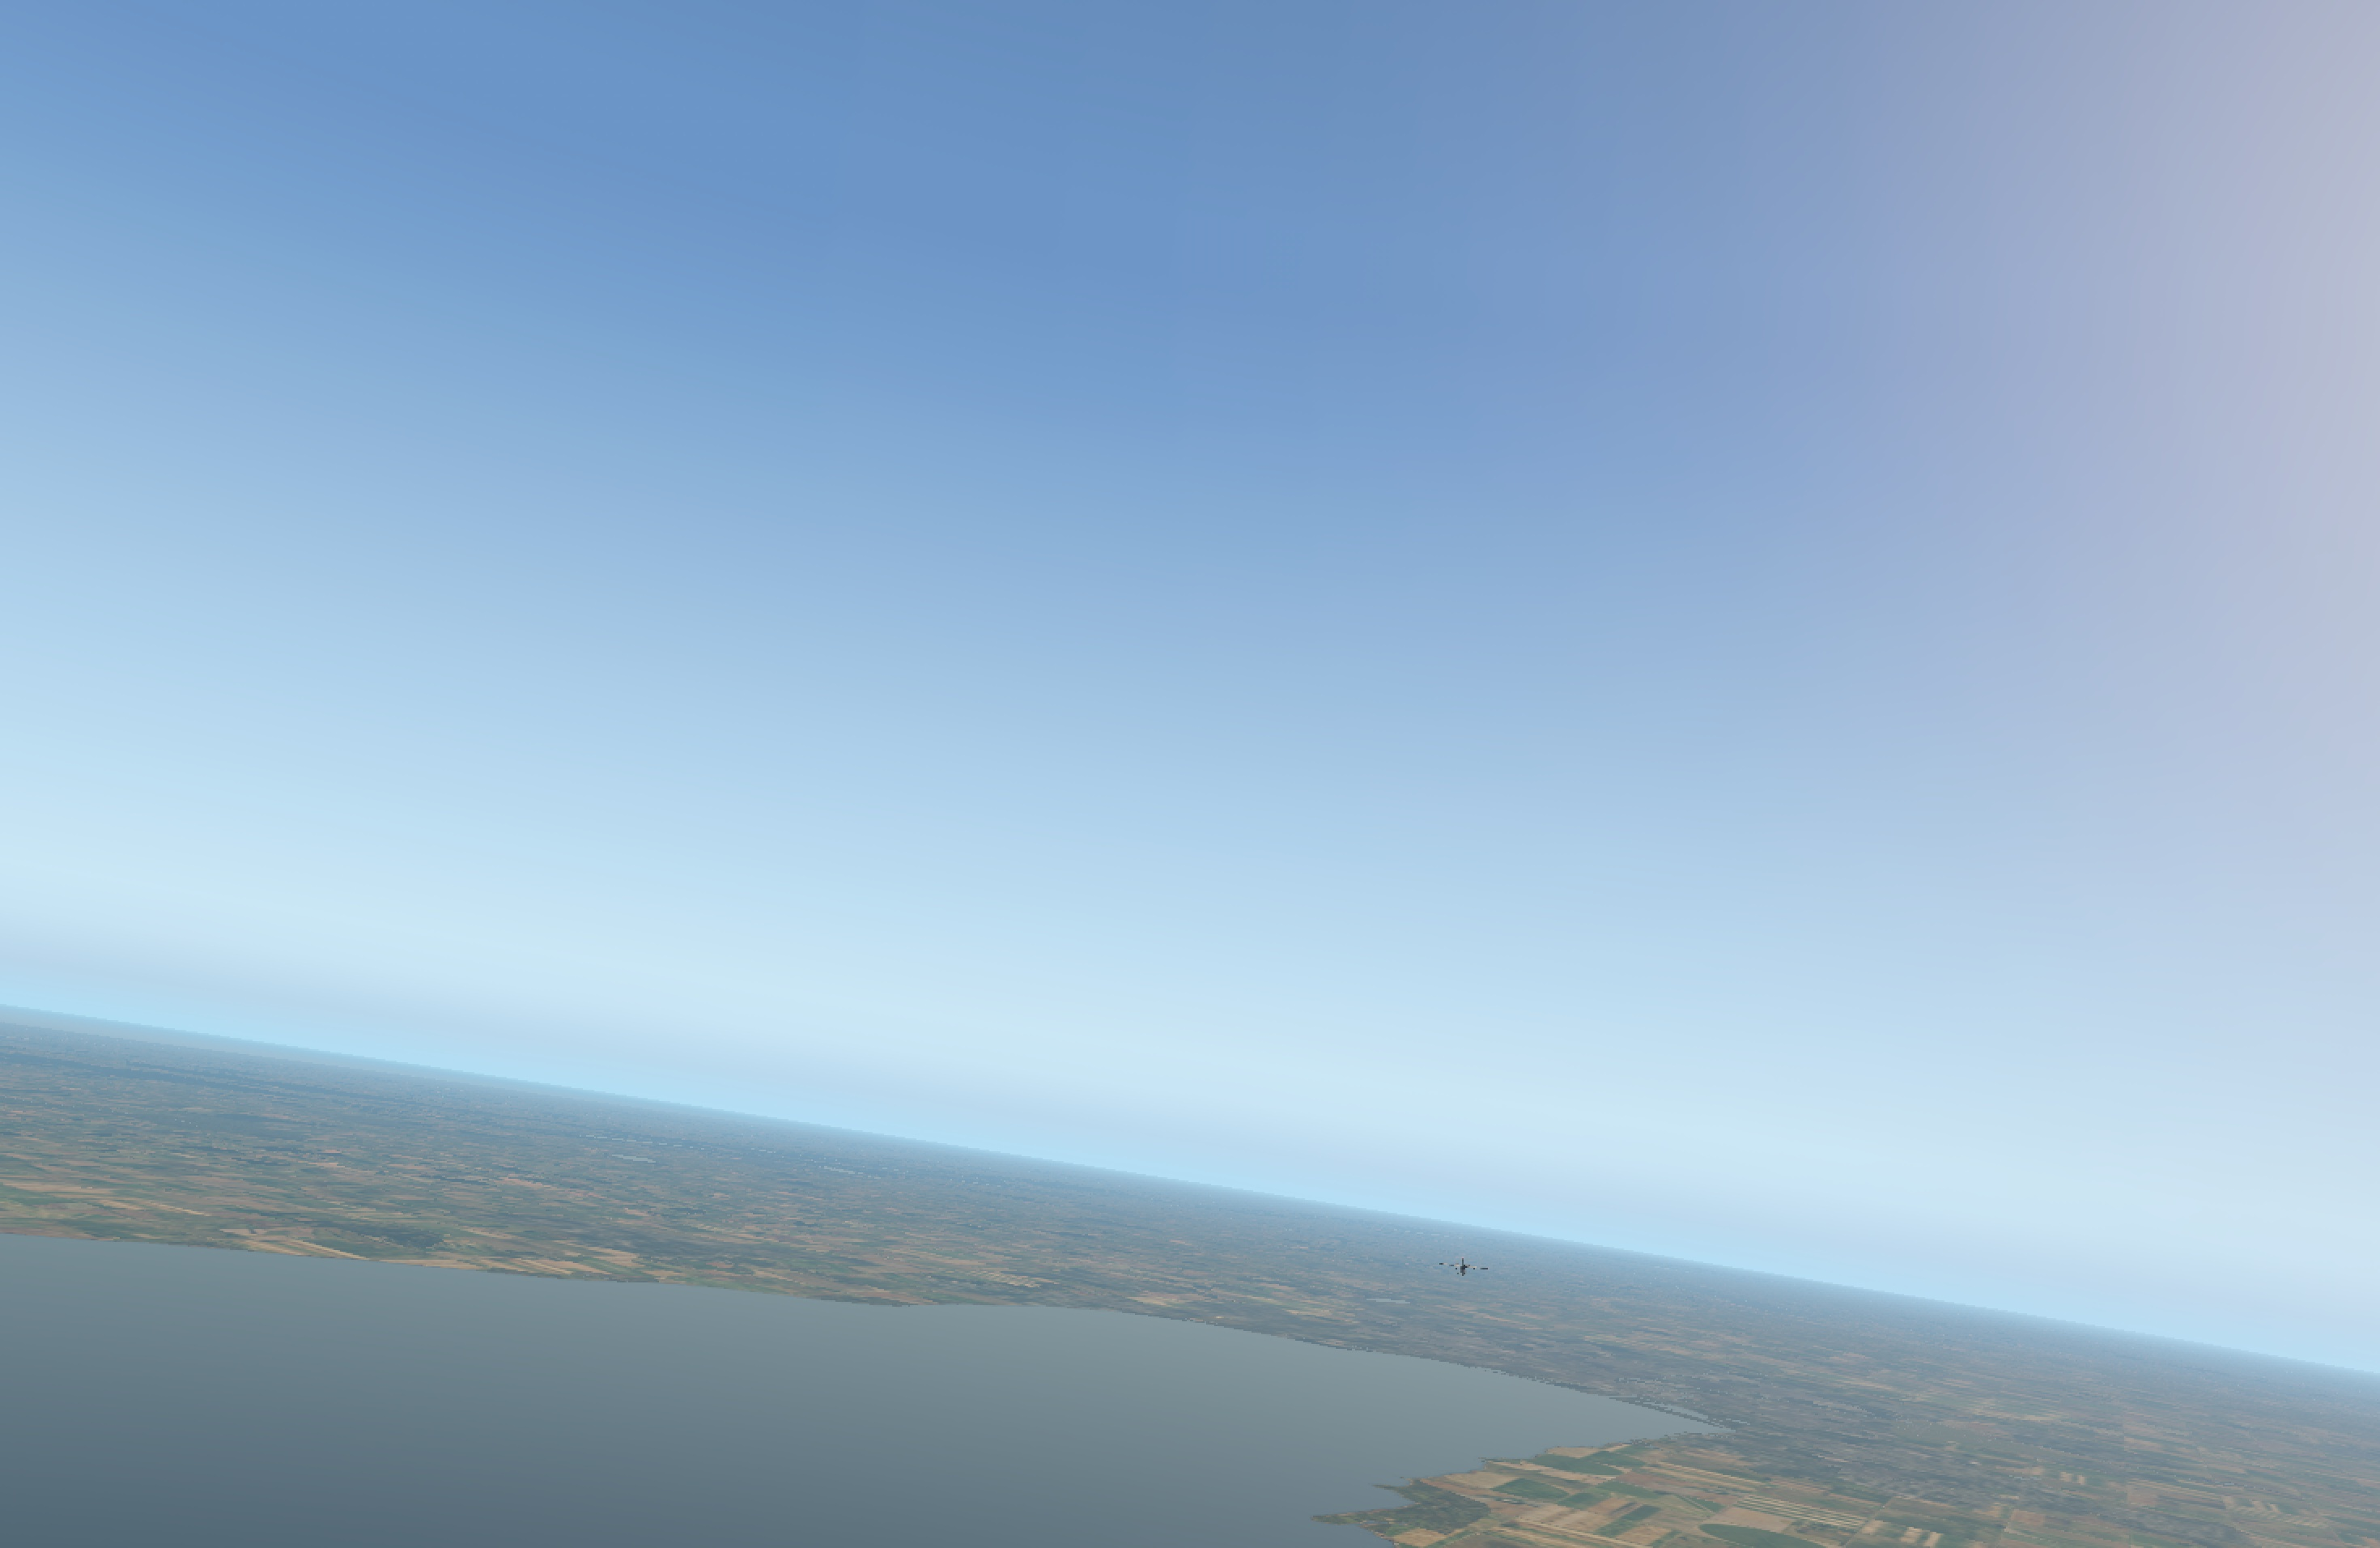aircraft: (1447, 1263, 1480, 1276)
